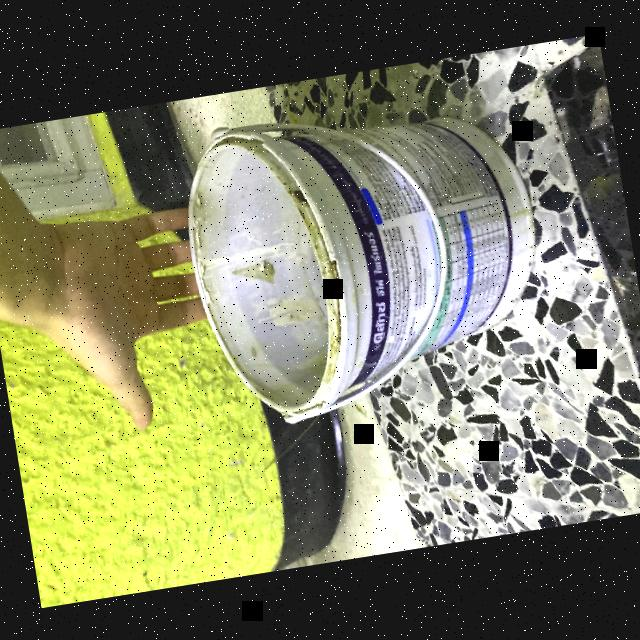paint_bucket: (164, 76, 563, 438)
